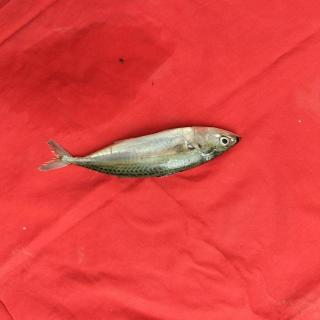Ikan: (36, 96, 260, 210)
